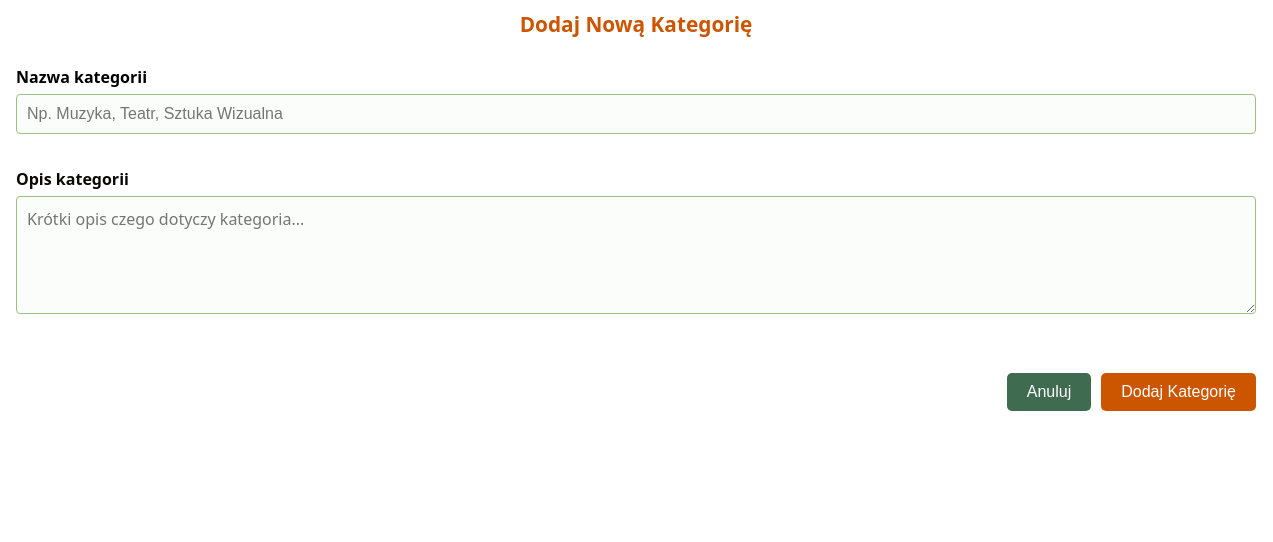
CreateCategory Component › Form submission › handles server-side validation errors
Type "Istniejąca Kategoria" into the field labelled "Nazwa kategorii".
click(636, 114); type("Istniejąca Kategoria")  # box [16, 94, 1256, 134]
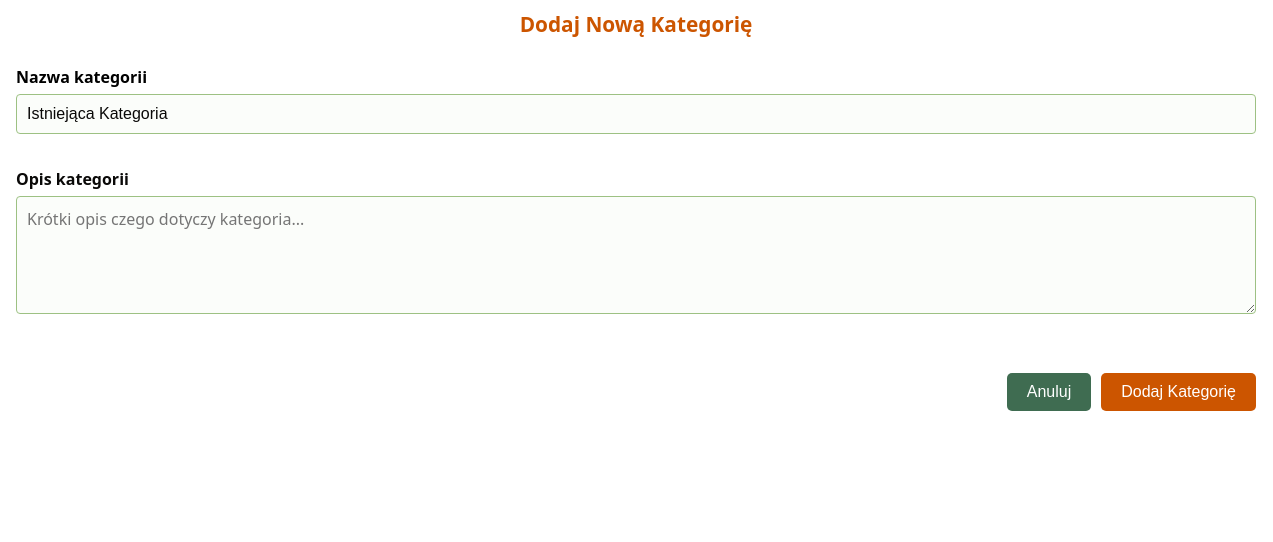
Type "Jakiś poprawny opis kategorii." into the text box labelled "Opis kategorii".
click(636, 255); type("Jakiś poprawny opis kategorii.")  # box [16, 196, 1256, 314]
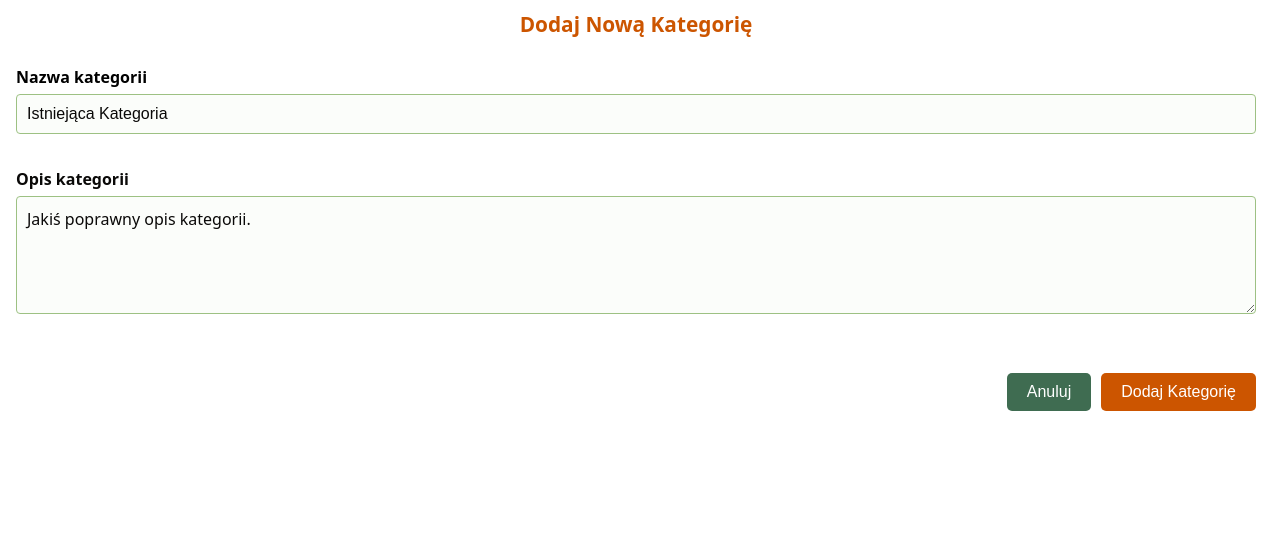
Click the button "Dodaj Kategorię".
click(1179, 392)  # box [1101, 373, 1256, 411]
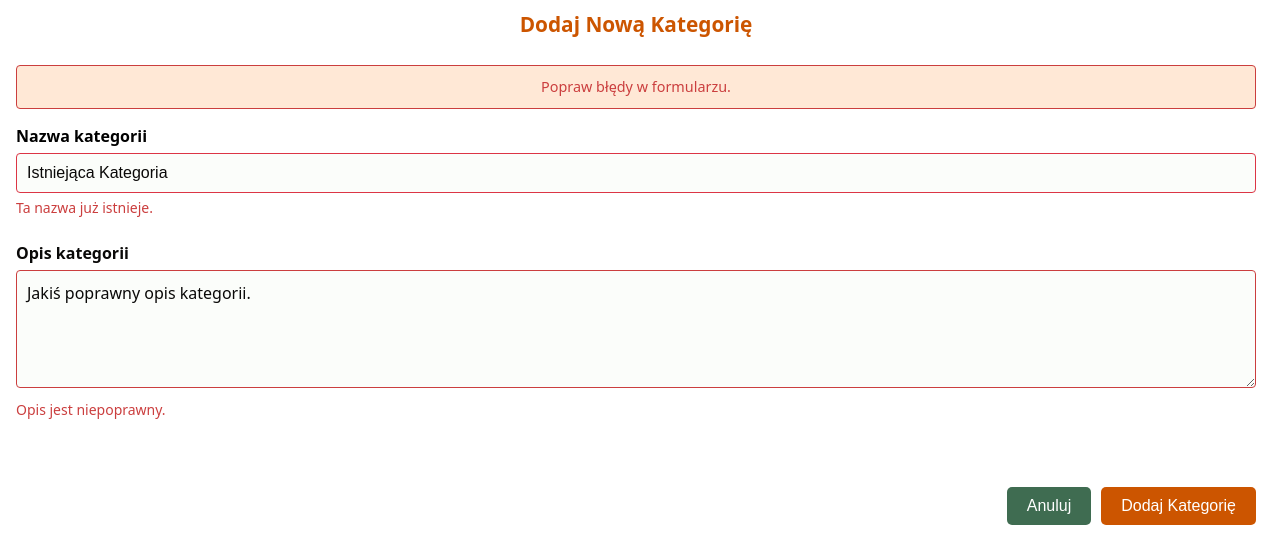
Check: the text "Ta nazwa już istnieje." is shown, box [16, 198, 153, 217]
Check: the text "Opis jest niepoprawny." is shown, box [16, 400, 166, 419]
Check: the text "Popraw błędy w formularzu." is shown, box [16, 65, 1256, 109]
